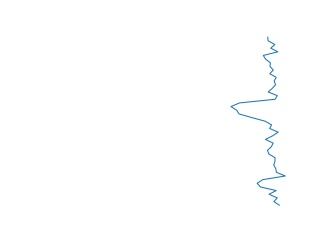interdistributaryEstuary: (230, 35, 292, 208)
